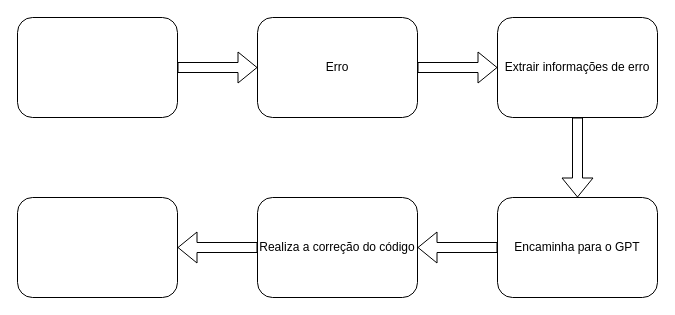
The diagram is 675 pixels wide and 315 high, and some of its shapes have lost their labels. The box of each missing label's shape, as (x1, y1, x2, y2) in pixels:
Executa o código: (16, 196, 178, 298)
RPA: (16, 16, 178, 118)
